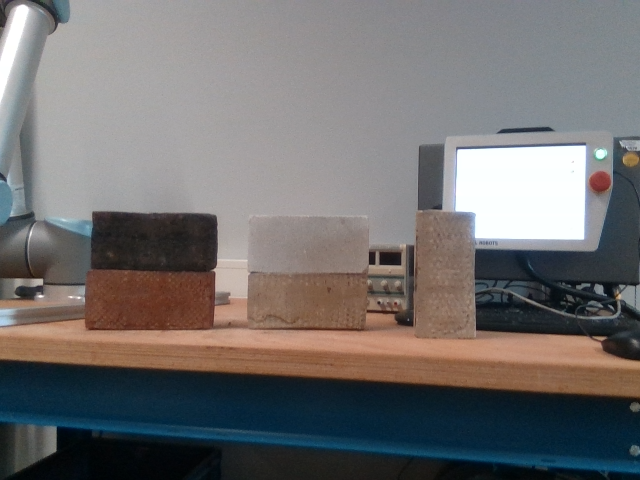brick: (418, 212, 471, 336), (89, 272, 208, 327), (96, 213, 212, 268), (253, 220, 364, 269), (251, 279, 361, 323)
